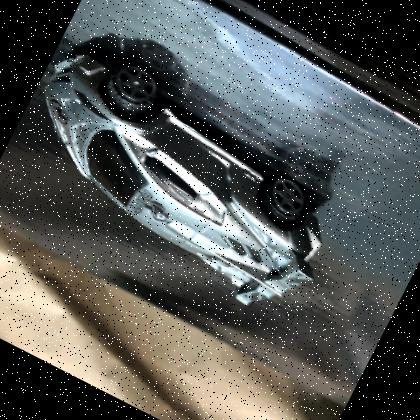Car: (45, 51, 323, 304)
